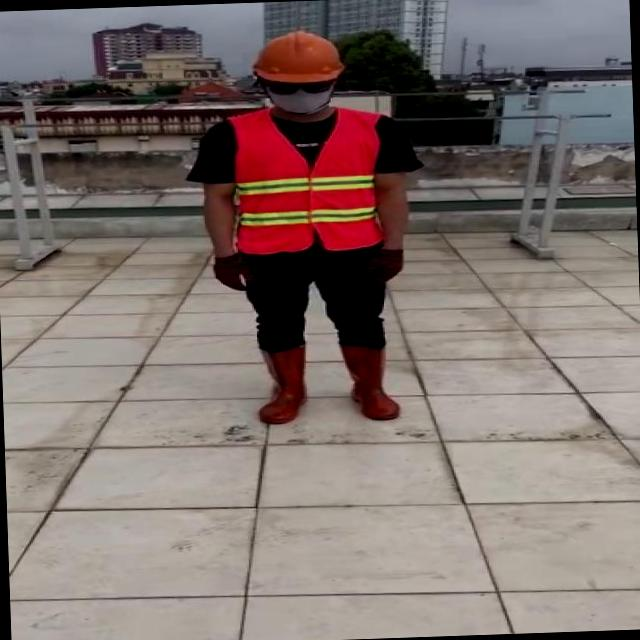boots: (340, 344, 400, 422), (253, 344, 306, 426)
gloves: (185, 231, 276, 319), (338, 243, 428, 296)
helmet: (248, 26, 348, 92)
vest: (227, 108, 382, 257)
